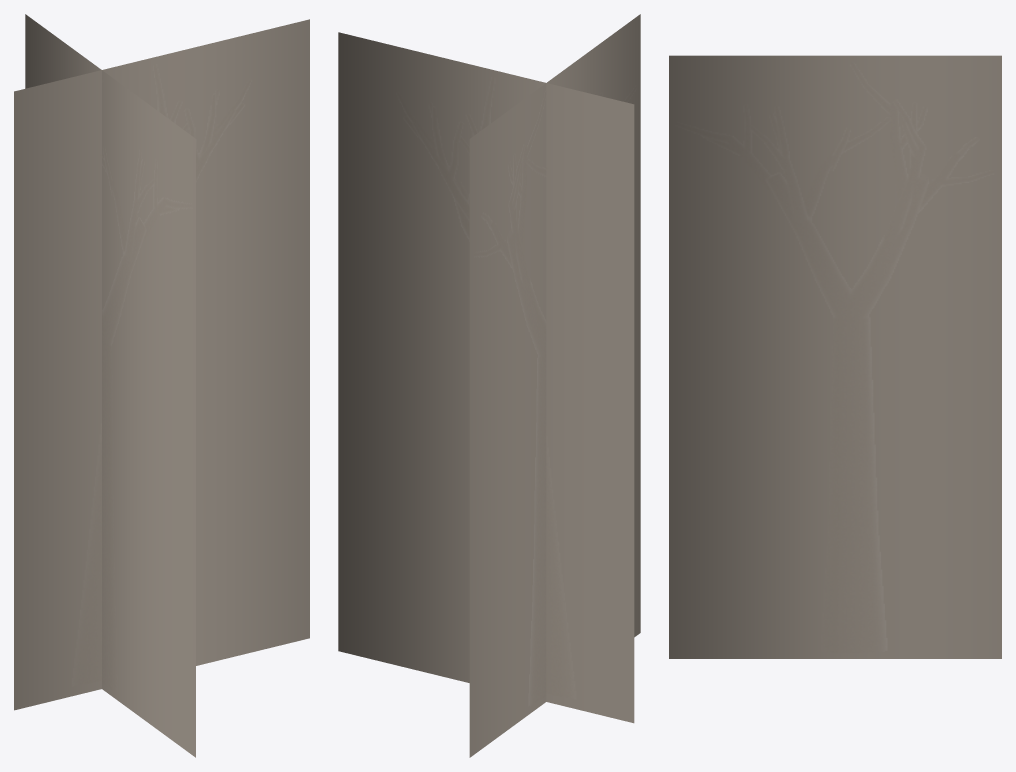
The model's file is dead_tree_1_far.glb.
3 views of the same model, side by side, from view 1: azimuth 30°, elevation 25°; view 2: azimuth 150°, elevation 25°; view 3: azimuth 270°, elevation 25° (orthographic). The views are drawn at different scales.
Visible parts, largest first — view 1: dead_tree_1_far; view 2: dead_tree_1_far; view 3: dead_tree_1_far.
Part boxes in pixels (x1=…): dead_tree_1_far: x1=14, y1=14, x2=309, y2=757; dead_tree_1_far: x1=338, y1=14, x2=640, y2=757; dead_tree_1_far: x1=669, y1=55, x2=1001, y2=658.
Bounding box in the file's own units: 3.4 × 6.8 × 3.4.
Materials: 1 (1 with a texture image).
